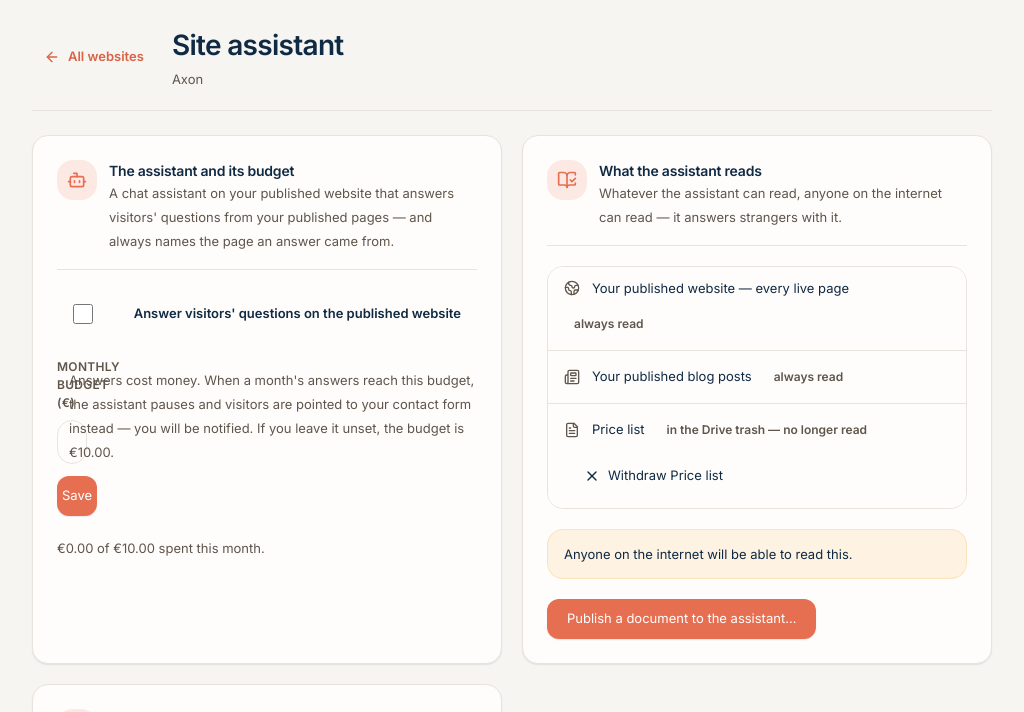
Test: the assistant screen › withdrawing a source only ever touches that source
Expected: the text "in the Drive trash — no longer read" is shown, [666,422,867,437]
Step 1. Click the button "Withdraw Price list" → click(653, 476), box [564,456,743,496]
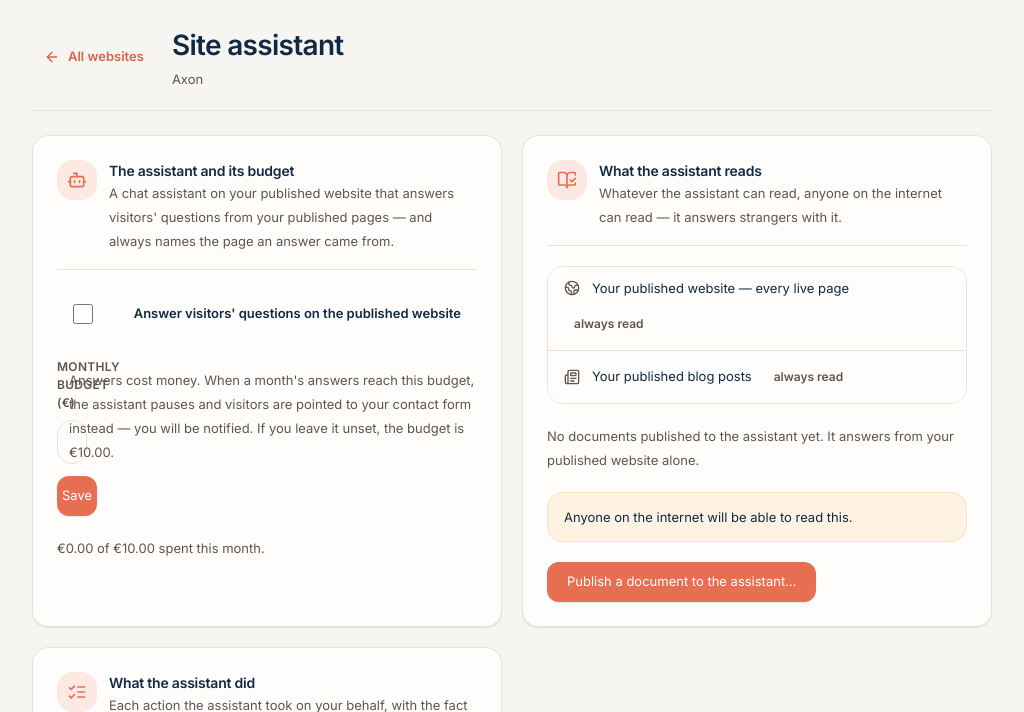
Result: the text "Price list" is gone
